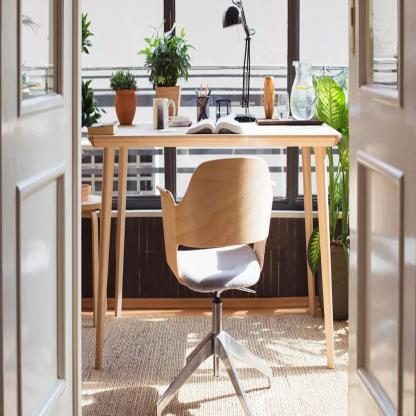chair: (158, 158, 278, 416)
door: (0, 0, 83, 414), (347, 0, 416, 416)
light: (222, 2, 255, 126)
table: (85, 114, 345, 374)
